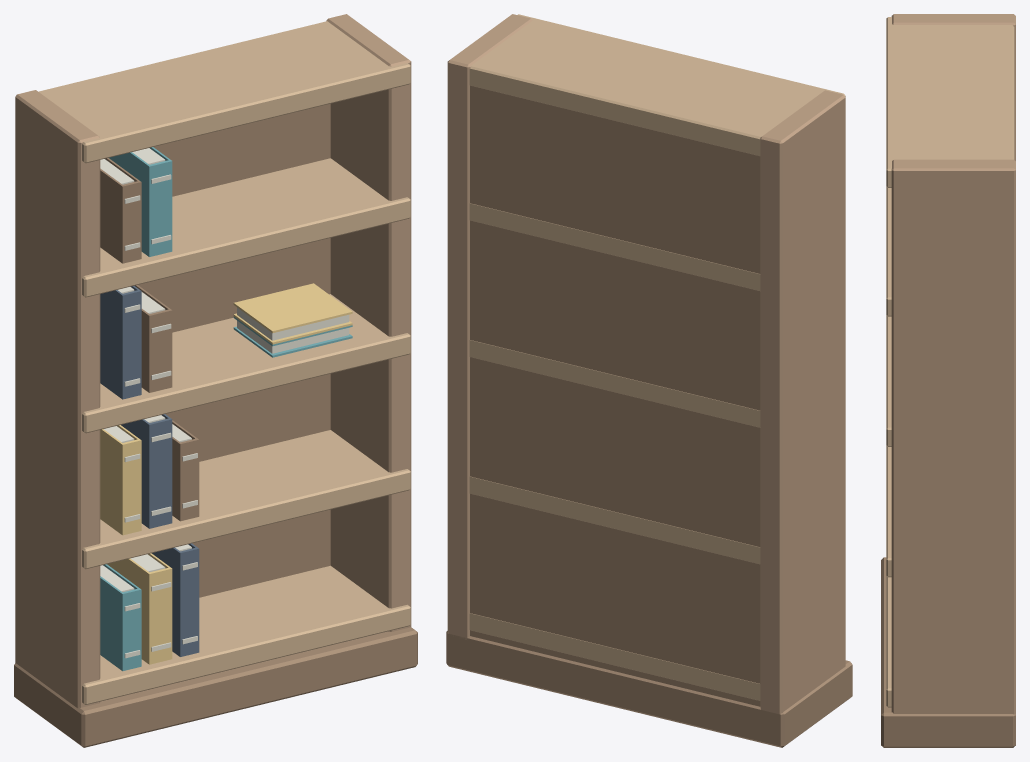
File: bookshelf.glb
The picture shows the model from 3 angles, left to right: view 1: azimuth 30°, elevation 25°; view 2: azimuth 150°, elevation 25°; view 3: azimuth 270°, elevation 25°; orthographic projection. The views are drawn at different scales.
Visible parts, largest first — view 1: bookcase_side, bookcase_back, bookcase_side.001, bookcase_shelf.004, bookcase_shelf.003, bookcase_shelf, bookcase_shelf.001, bookcase_plinth, bookcase_shelf.002, folio_cover.003, book_spine.004, book_spine.006 (+18 smaller); view 2: bookcase_back, bookcase_side, bookcase_shelf.004, bookcase_plinth, bookcase_side.001, bookcase_shelf, bookcase_shelf.001, bookcase_shelf.002, bookcase_shelf.003; view 3: bookcase_side.001, bookcase_shelf.004, bookcase_plinth, bookcase_side, bookcase_shelf.001, bookcase_shelf.002, bookcase_shelf, bookcase_shelf.003.
Boxes of the visible parts, bbox=[...] form: bookcase_side: bbox=[15, 90, 100, 708]; bookcase_back: bbox=[138, 103, 330, 597]; bookcase_side.001: bbox=[326, 14, 411, 631]; bookcase_shelf.004: bbox=[38, 21, 410, 163]; bookcase_shelf.003: bbox=[82, 158, 410, 297]; bookcase_shelf: bbox=[82, 565, 410, 704]; bookcase_shelf.001: bbox=[82, 430, 410, 569]; bookcase_plinth: bbox=[14, 627, 417, 747]; bookcase_shelf.002: bbox=[82, 294, 410, 433]; folio_cover.003: bbox=[233, 283, 352, 333]; book_spine.004: bbox=[149, 418, 172, 528]; book_spine.006: bbox=[120, 289, 141, 399]; bookcase_back: bbox=[470, 85, 760, 706]; bookcase_side: bbox=[760, 90, 845, 714]; bookcase_shelf.004: bbox=[469, 14, 845, 155]; bookcase_plinth: bbox=[446, 631, 852, 747]; bookcase_side.001: bbox=[447, 14, 532, 639]; bookcase_shelf: bbox=[469, 613, 760, 700]; bookcase_shelf.001: bbox=[469, 476, 760, 564]; bookcase_shelf.002: bbox=[469, 340, 760, 427]; bookcase_shelf.003: bbox=[469, 203, 760, 290]; bookcase_side.001: bbox=[891, 159, 1015, 714]; bookcase_shelf.004: bbox=[886, 17, 1014, 187]; bookcase_plinth: bbox=[881, 557, 1015, 747]; bookcase_side: bbox=[891, 14, 1015, 160]; bookcase_shelf.001: bbox=[886, 445, 891, 577]; bookcase_shelf.002: bbox=[886, 315, 891, 446]; bookcase_shelf: bbox=[886, 576, 891, 707]; bookcase_shelf.003: bbox=[886, 186, 891, 316].
Size of the model in its own units: 1.05 by 1.8 by 0.38.
